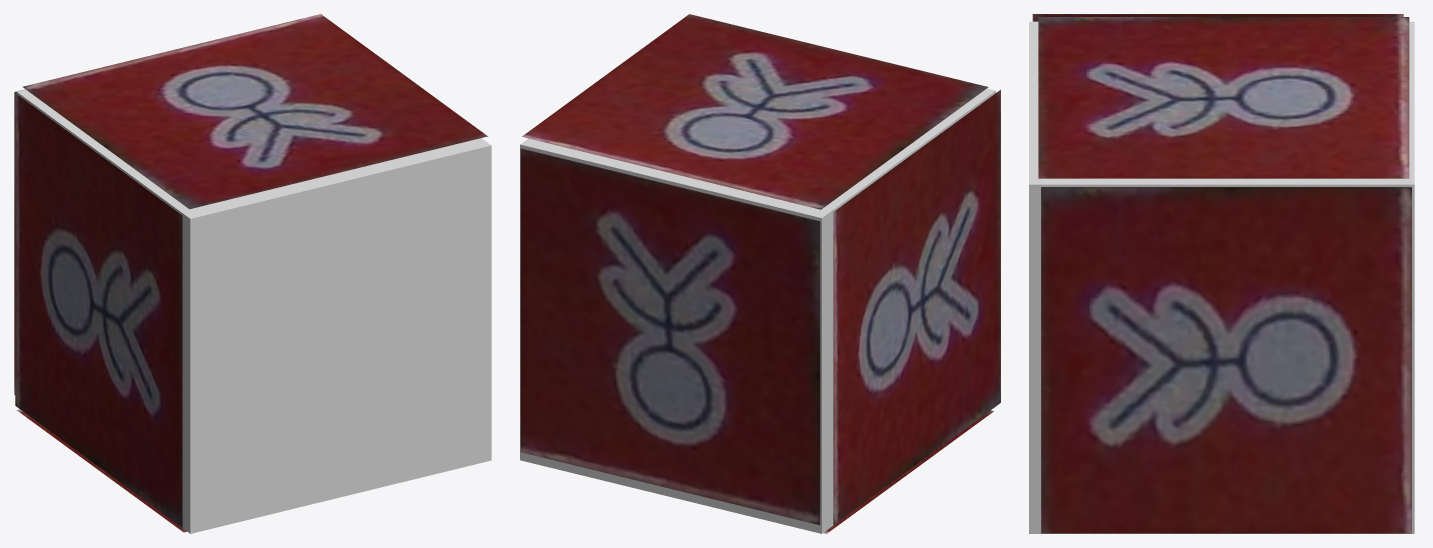
The picture shows the model from 3 angles, left to right: view 1: azimuth 30°, elevation 25°; view 2: azimuth 150°, elevation 25°; view 3: azimuth 270°, elevation 25°; orthographic projection. The views are drawn at different scales.
Parts seen in each view (by area): view 1: Link28, R1.002, R1.004, R1.005, R1.001; view 2: R1.001, R1.002, R1.004, Link28, R1.005; view 3: R1.003, R1.004, Link28, R1.002.
Part boxes in pixels (box(x1,y1,x2,y2)): Link28: box(16, 89, 491, 533); R1.002: box(15, 93, 182, 527); R1.004: box(22, 14, 487, 209); R1.005: box(17, 409, 186, 532); R1.001: box(14, 89, 25, 395); R1.001: box(520, 148, 820, 524); R1.002: box(833, 89, 1000, 524); R1.004: box(522, 14, 988, 209); Link28: box(520, 88, 995, 533); R1.005: box(823, 410, 993, 533); R1.003: box(1041, 187, 1411, 533); R1.004: box(1038, 17, 1409, 178); Link28: box(1029, 21, 1414, 533); R1.002: box(1032, 14, 1403, 21).
Size of the model in its own units: 0.3585 by 0.3539 by 0.3577.
Materials: 1 (1 with a texture image).
